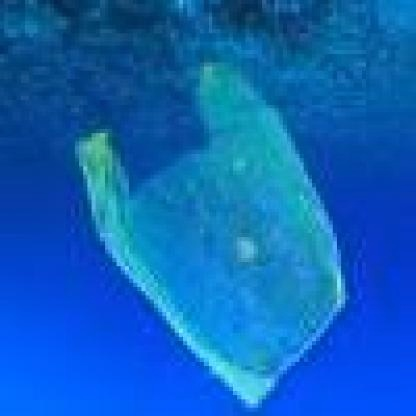pbag: (71, 58, 349, 412)
